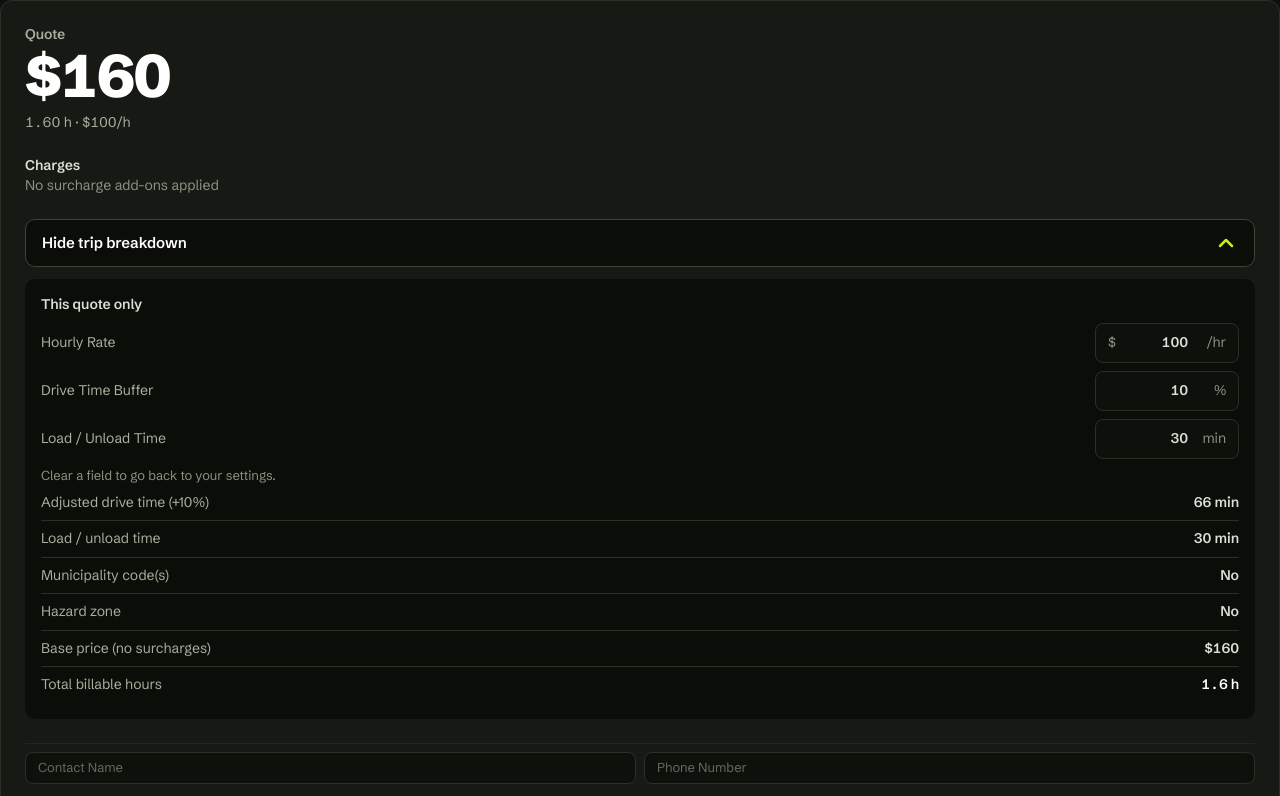
it: updates the headline for each quote override and restores defaults when cleared
The image size is (1280, 796).
Expected: the 1st text "$160" is shown, left=25, top=38, right=170, bottom=112
Type "200" into the number field labelled "Hourly Rate".
click(1155, 343); type("200")  # box left=1122, top=333, right=1188, bottom=353
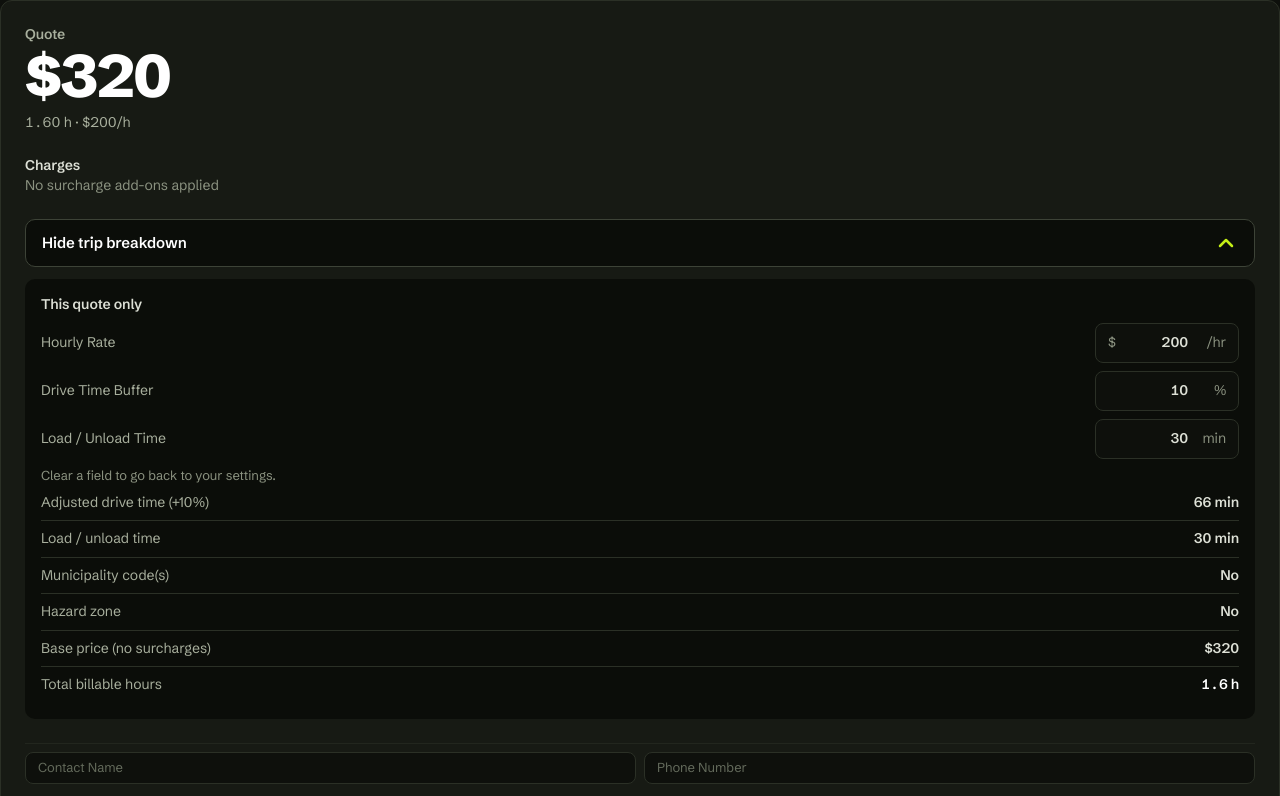
Result: the 1st text "$320" is shown at left=25, top=38, right=170, bottom=112
Type "50" into the number field labelled "Drive Time Buffer".
click(1155, 391); type("50")  # box left=1122, top=381, right=1188, bottom=401
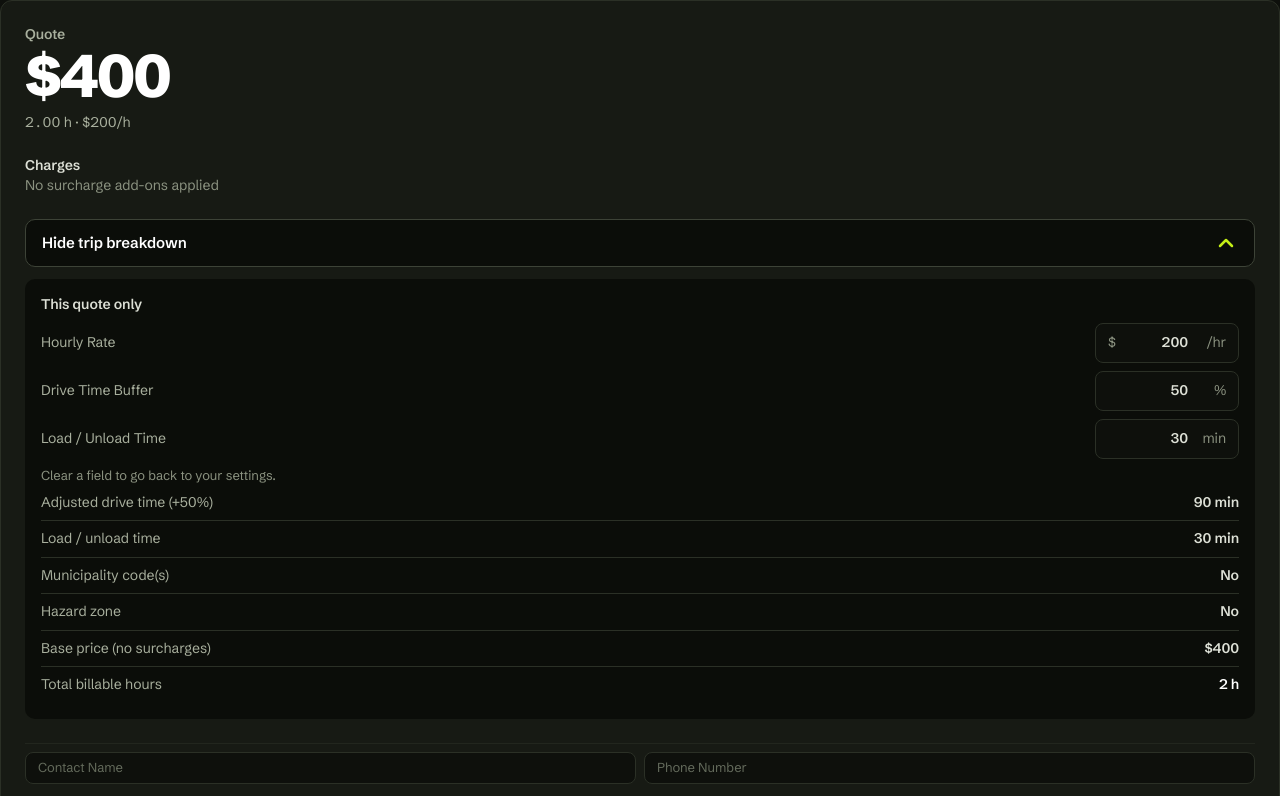
Result: the 1st text "$400" is shown at left=25, top=38, right=170, bottom=112
Type "60" into the number field labelled "Load / Unload Time".
click(1155, 439); type("60")  # box left=1122, top=429, right=1188, bottom=449
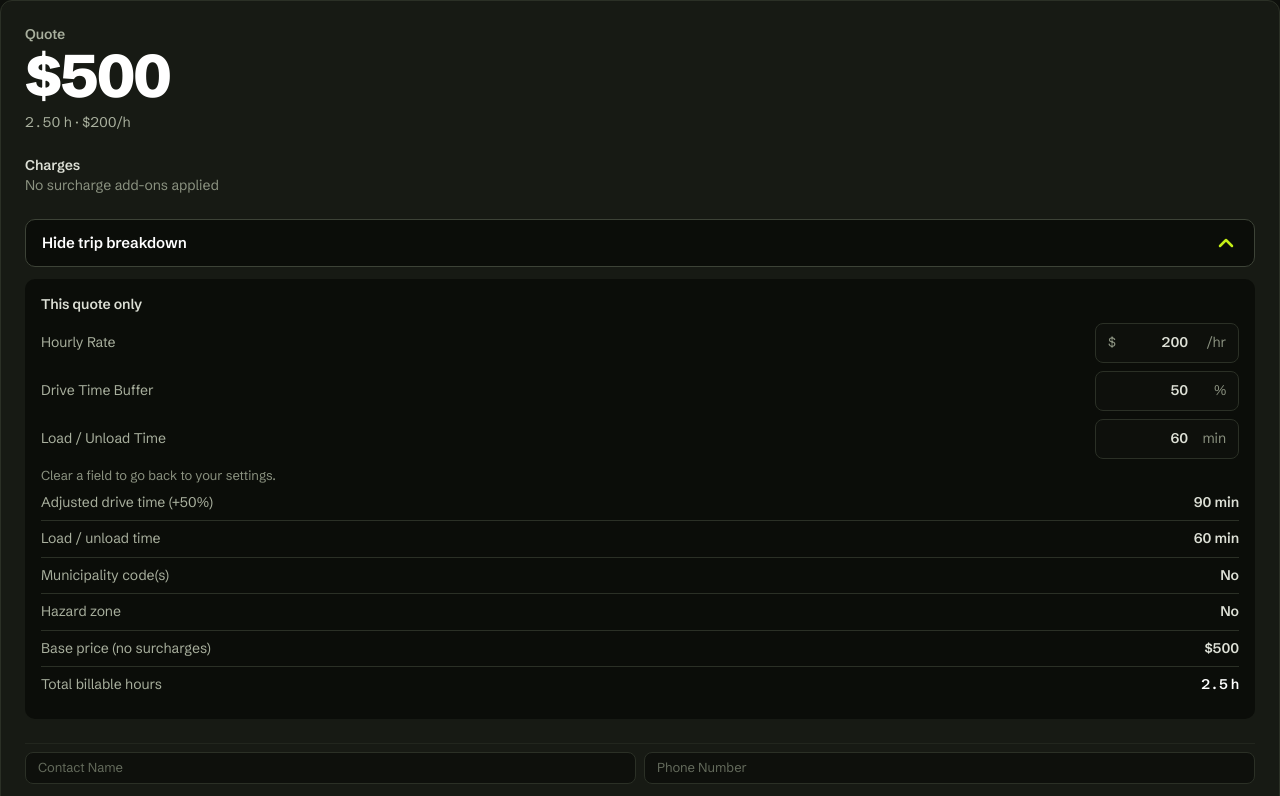
Result: the 1st text "$500" is shown at left=25, top=38, right=170, bottom=112
Clear the number field labelled "Hourly Rate" at (1155, 343), box left=1122, top=333, right=1188, bottom=353
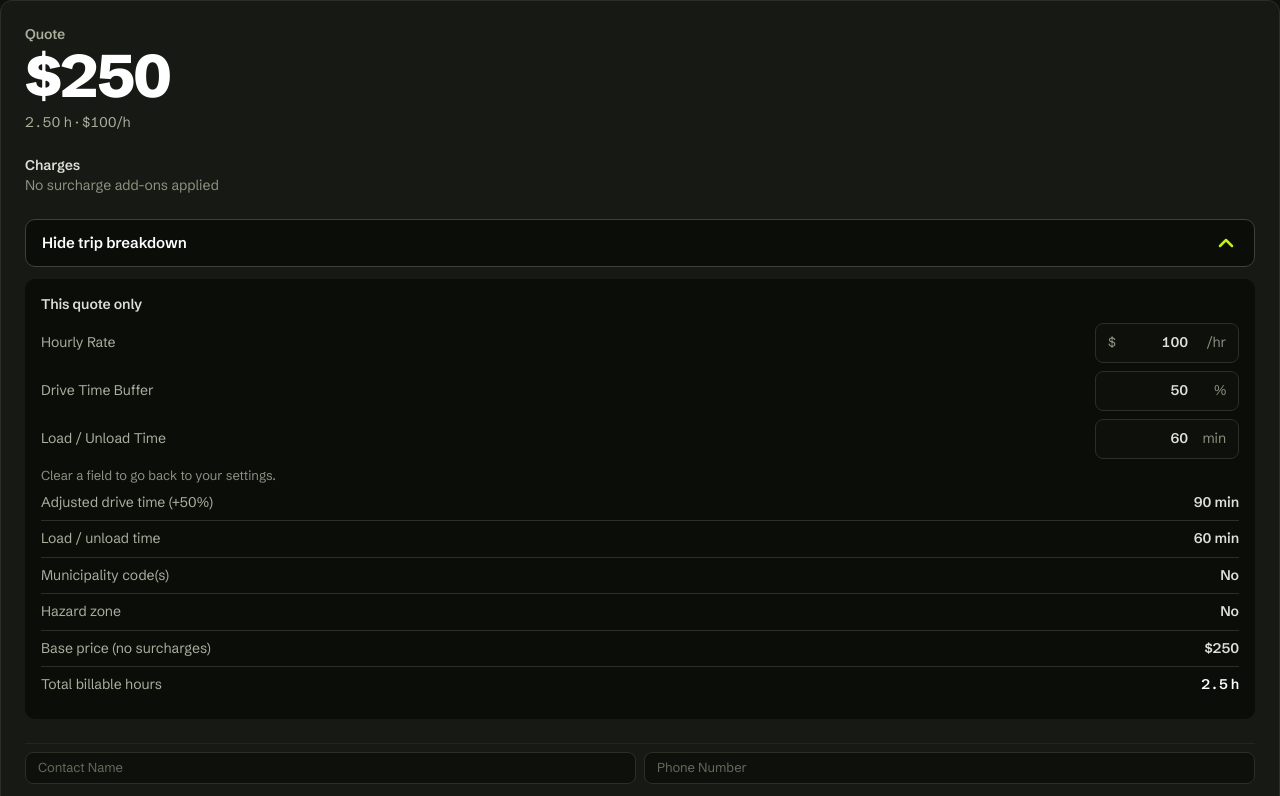
Clear the number field labelled "Drive Time Buffer" at (1155, 391), box left=1122, top=381, right=1188, bottom=401
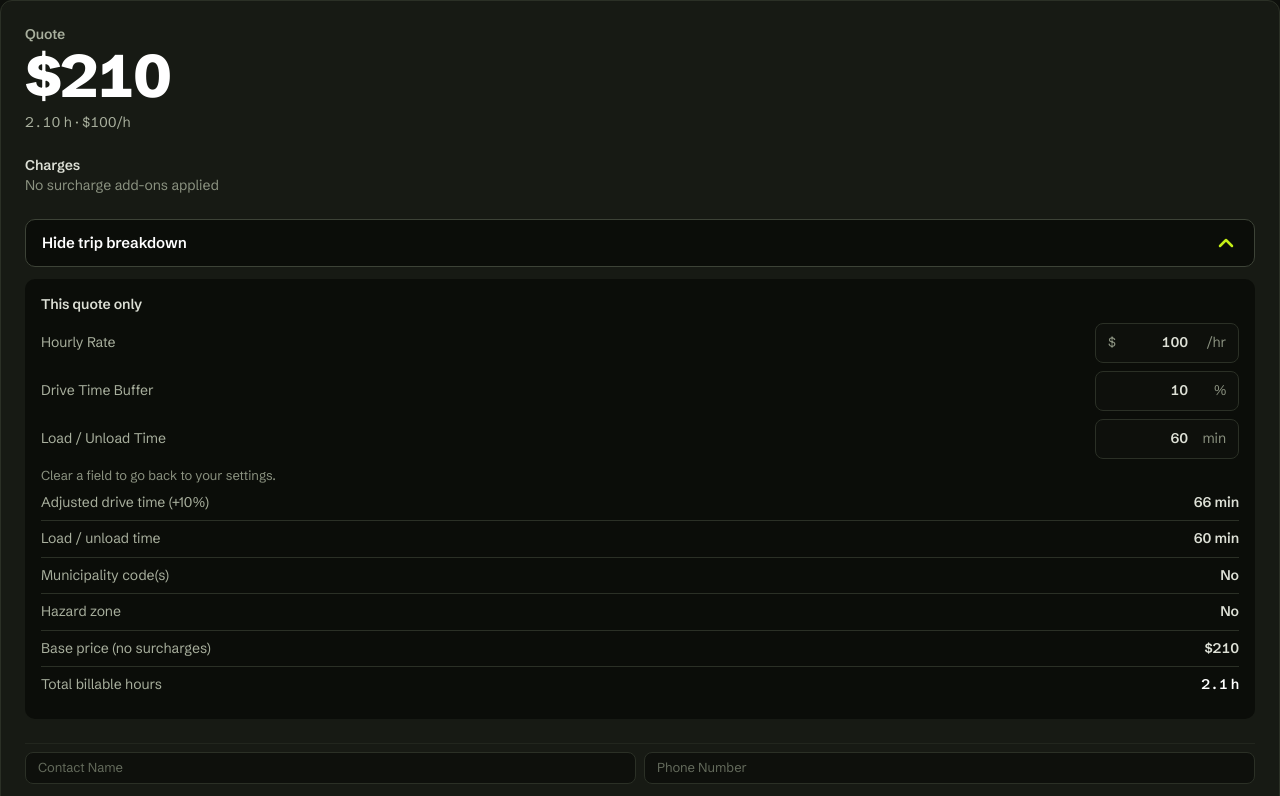
Clear the number field labelled "Load / Unload Time" at (1155, 439), box left=1122, top=429, right=1188, bottom=449
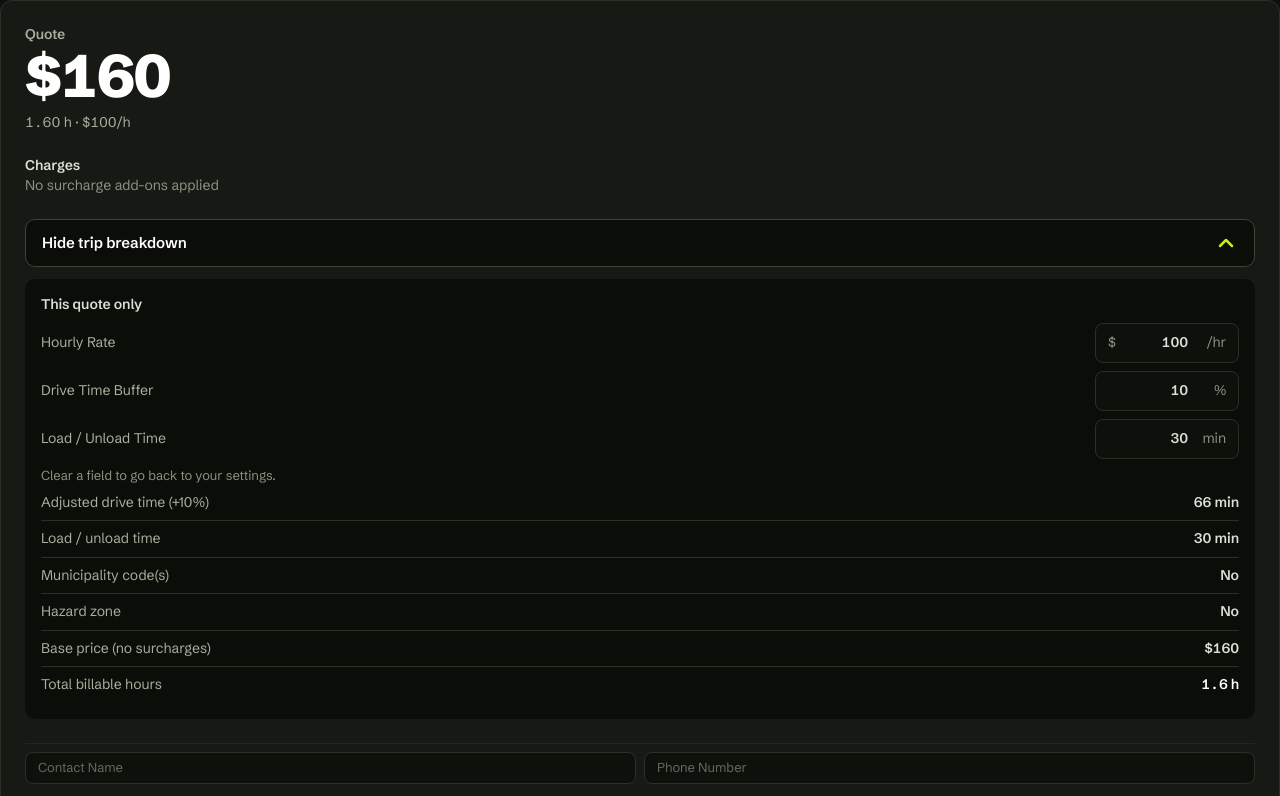
Result: the 1st text "$160" is shown at left=25, top=38, right=170, bottom=112
